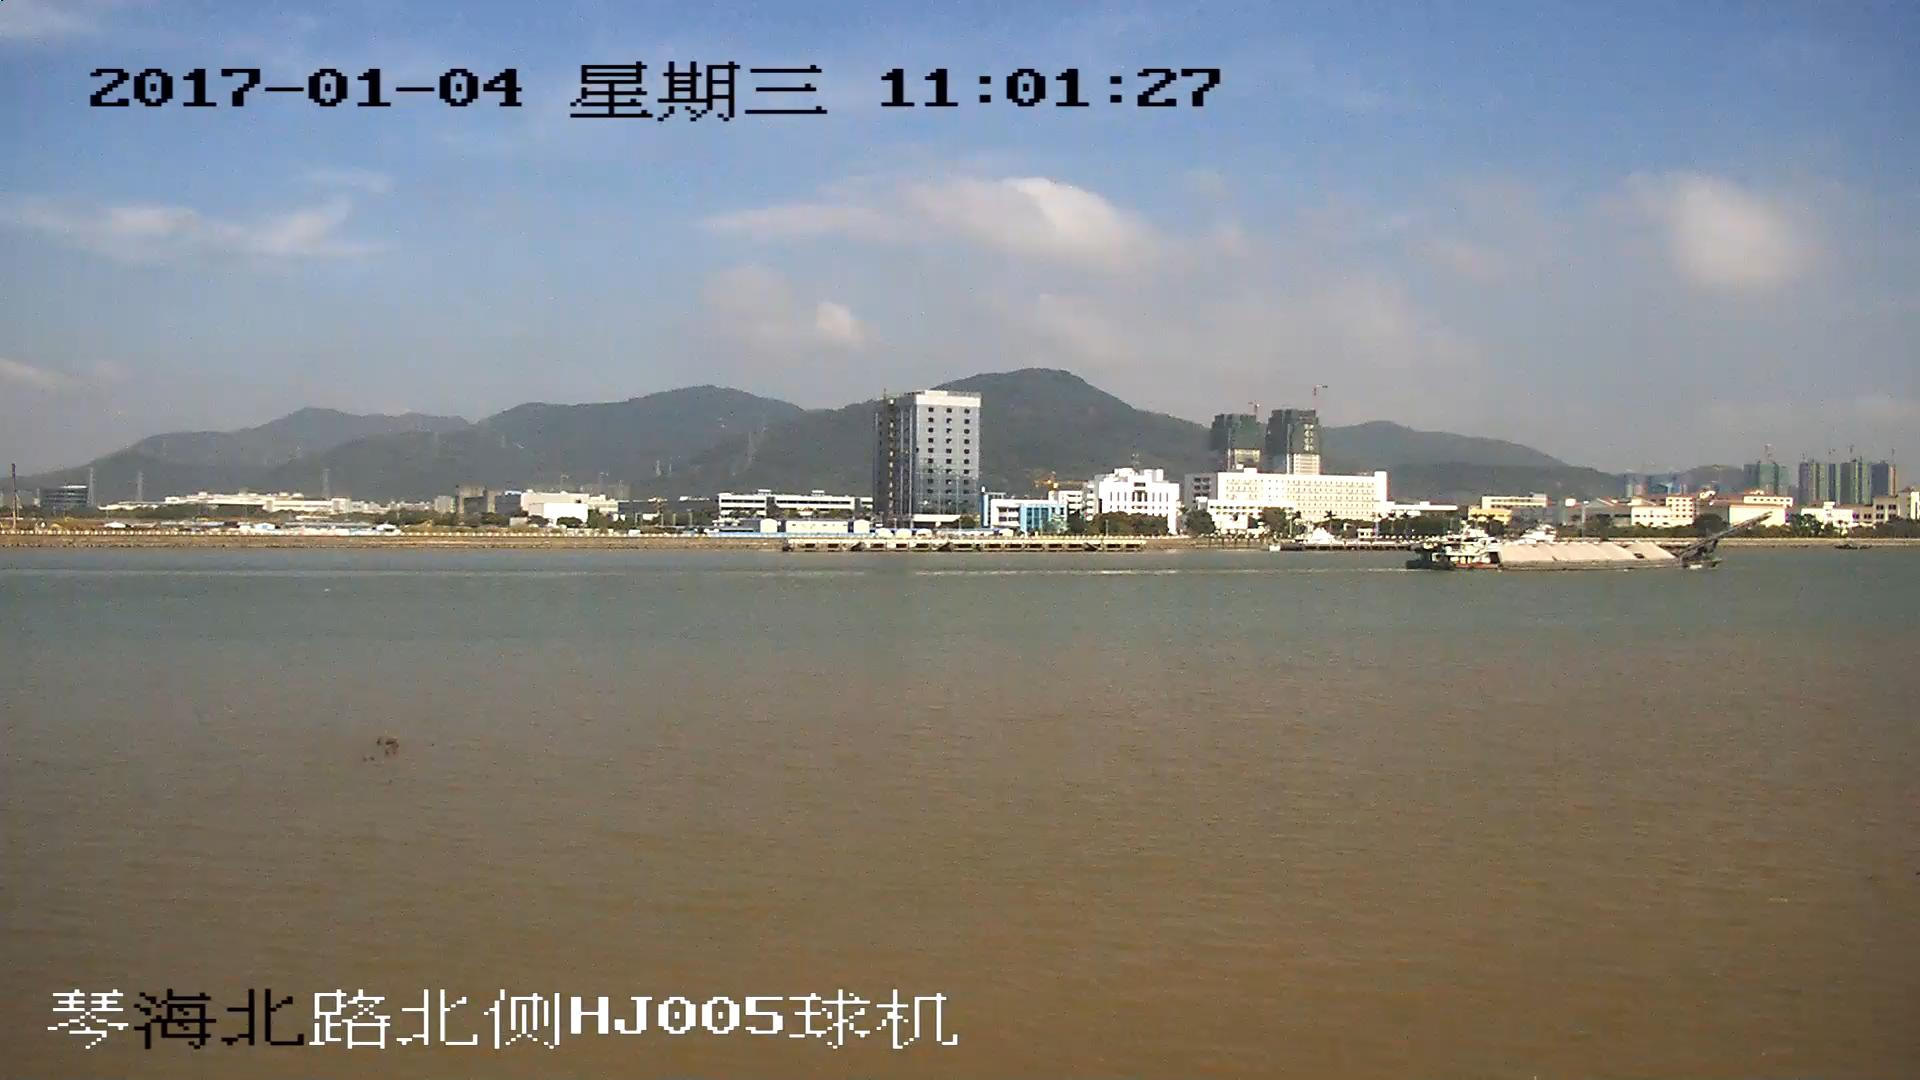ore carrier: (1408, 514, 1766, 574)
